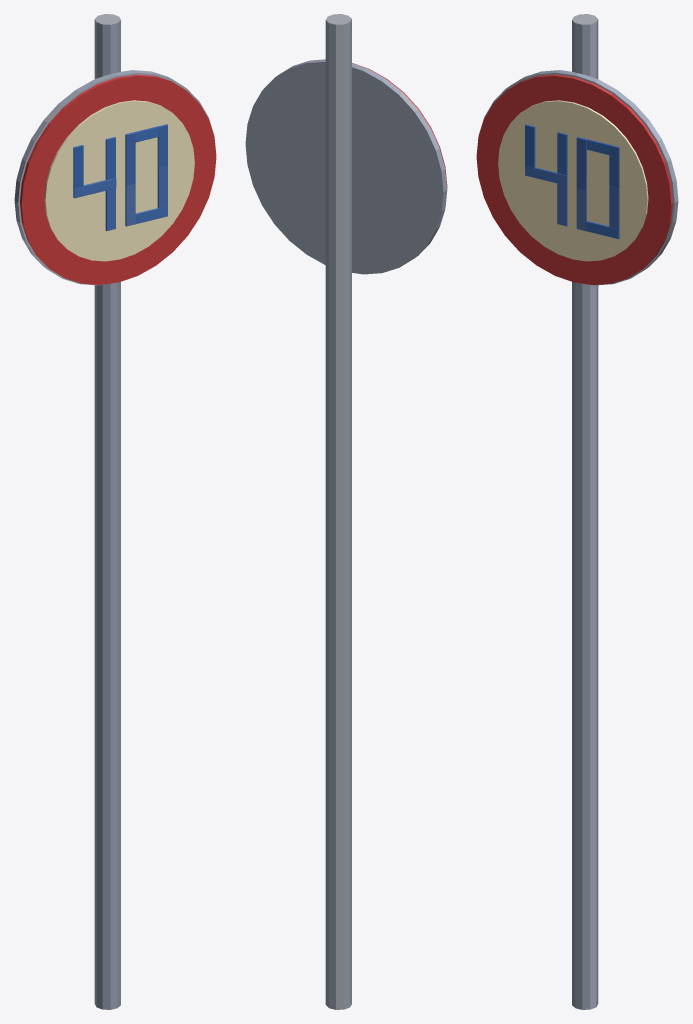
File: HK_Sign_Speed40.lod.glb
3 renders of one model, left to right at view 1: azimuth 30°, elevation 25°; view 2: azimuth 150°, elevation 25°; view 3: azimuth 330°, elevation 25°, orthographic.
Visible parts, largest first — view 1: HK_Sign_Speed40; view 2: HK_Sign_Speed40; view 3: HK_Sign_Speed40.
Boxes of the visible parts, x1=… form: HK_Sign_Speed40: x1=14, y1=14, x2=216, y2=1009; HK_Sign_Speed40: x1=245, y1=14, x2=447, y2=1009; HK_Sign_Speed40: x1=476, y1=14, x2=678, y2=1009.
Size of the model in its own units: 0.61 by 2.9 by 0.1053.
